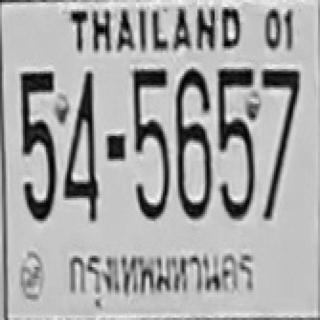N04: (62, 69, 99, 221), (63, 88, 100, 221)
N07: (262, 67, 300, 159), (261, 67, 299, 147)
P04: (60, 246, 257, 315)
